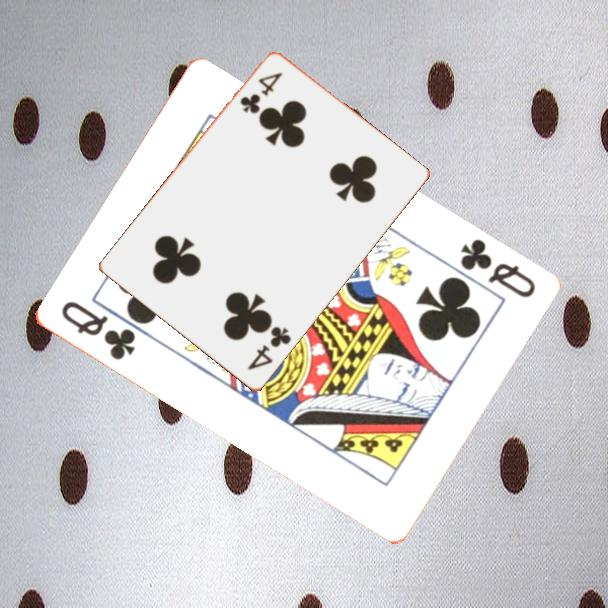c04: (244, 323, 294, 373), (236, 69, 286, 117)
c12: (456, 235, 538, 302), (57, 297, 138, 364)
